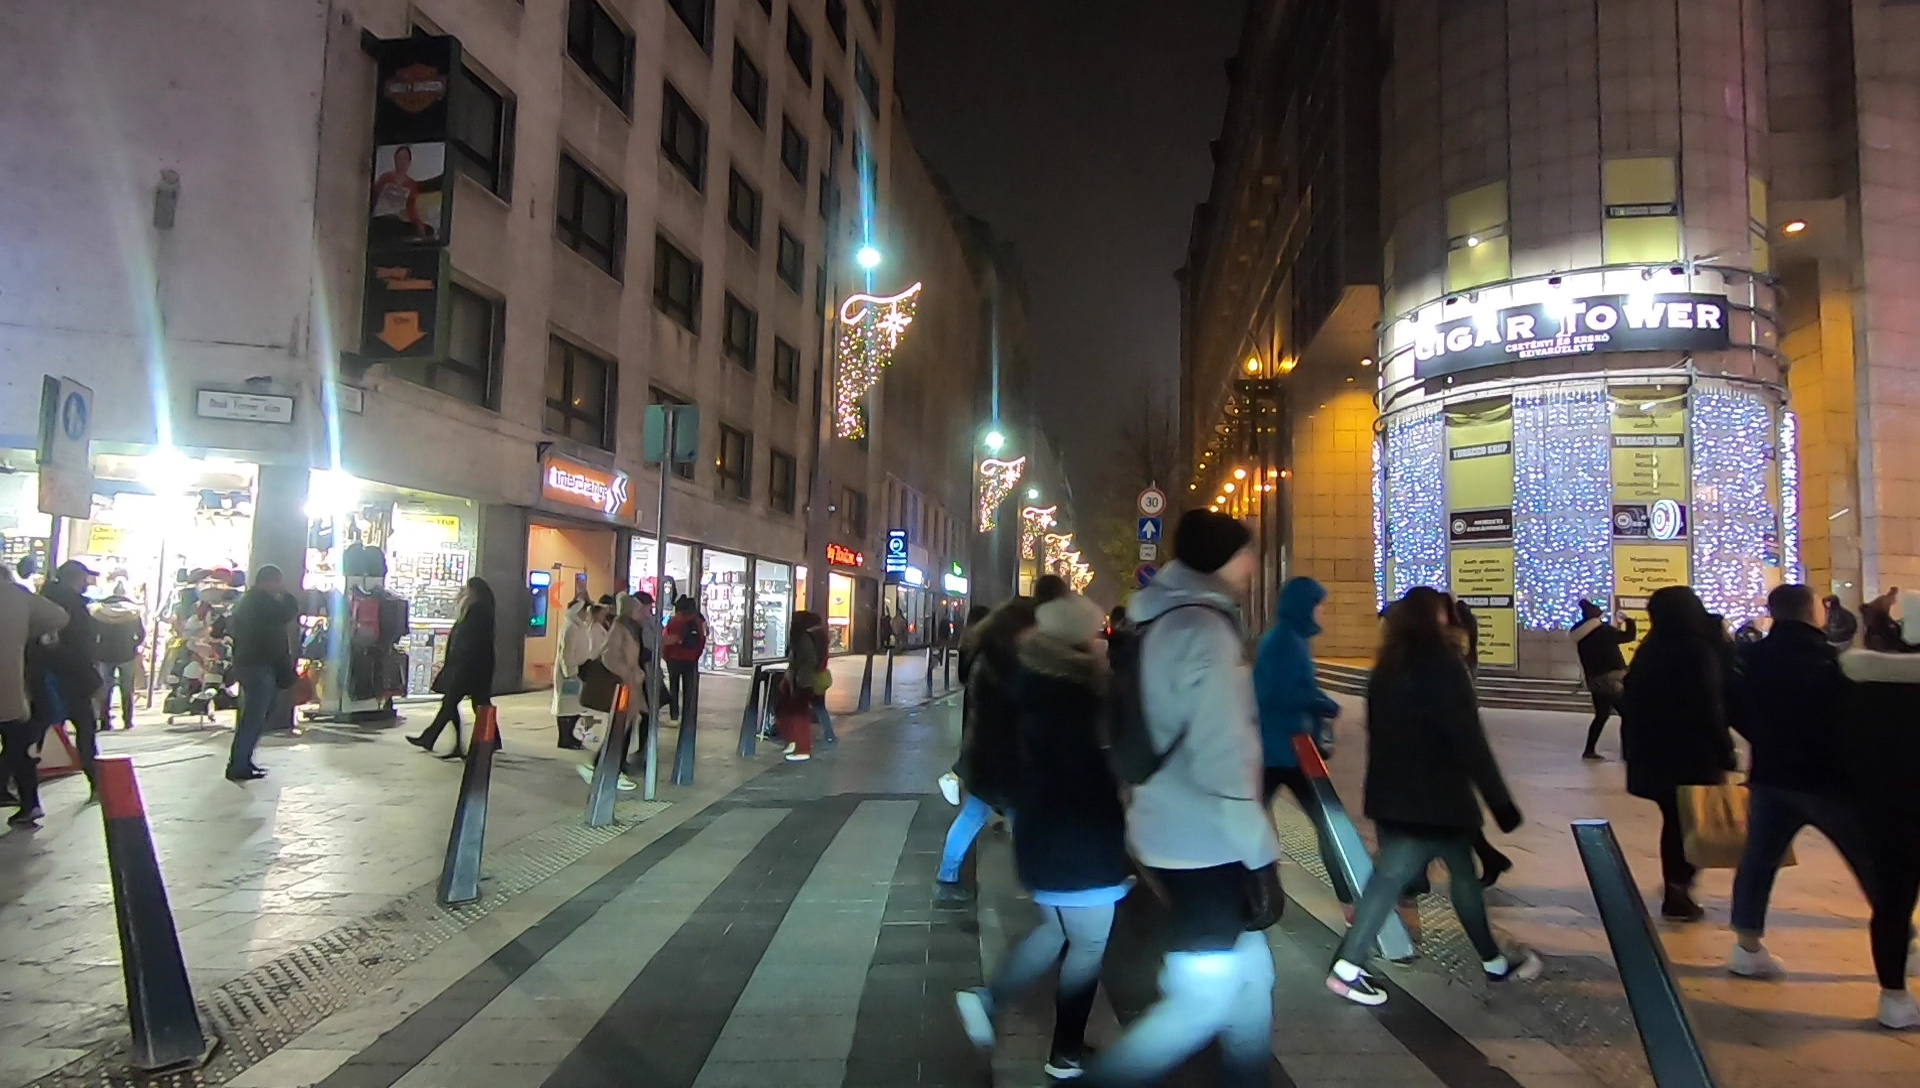person: (1118, 509, 1284, 1080), (1331, 588, 1548, 1006), (960, 601, 1118, 1072), (1729, 581, 1860, 974), (1243, 567, 1370, 935), (1623, 594, 1739, 919), (1847, 588, 1914, 1030), (34, 564, 112, 797), (425, 568, 506, 756), (225, 564, 294, 784), (1569, 600, 1641, 766), (587, 592, 639, 788), (779, 606, 829, 768), (554, 591, 587, 750), (630, 594, 664, 728), (668, 594, 704, 717)
